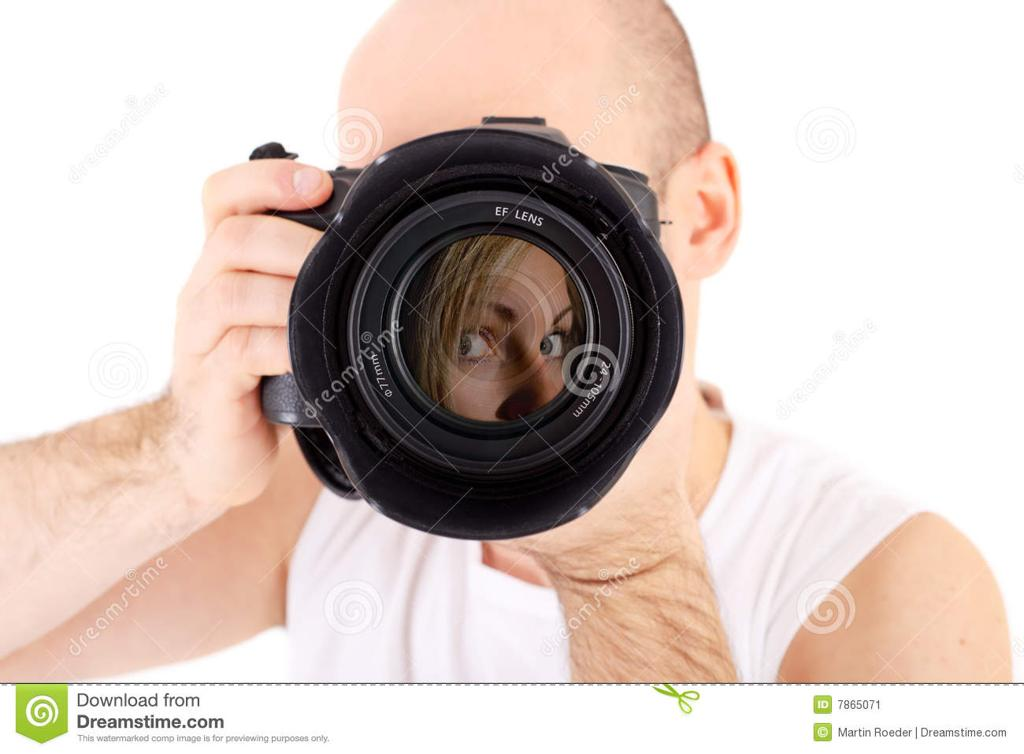face: (440, 220, 588, 530)
